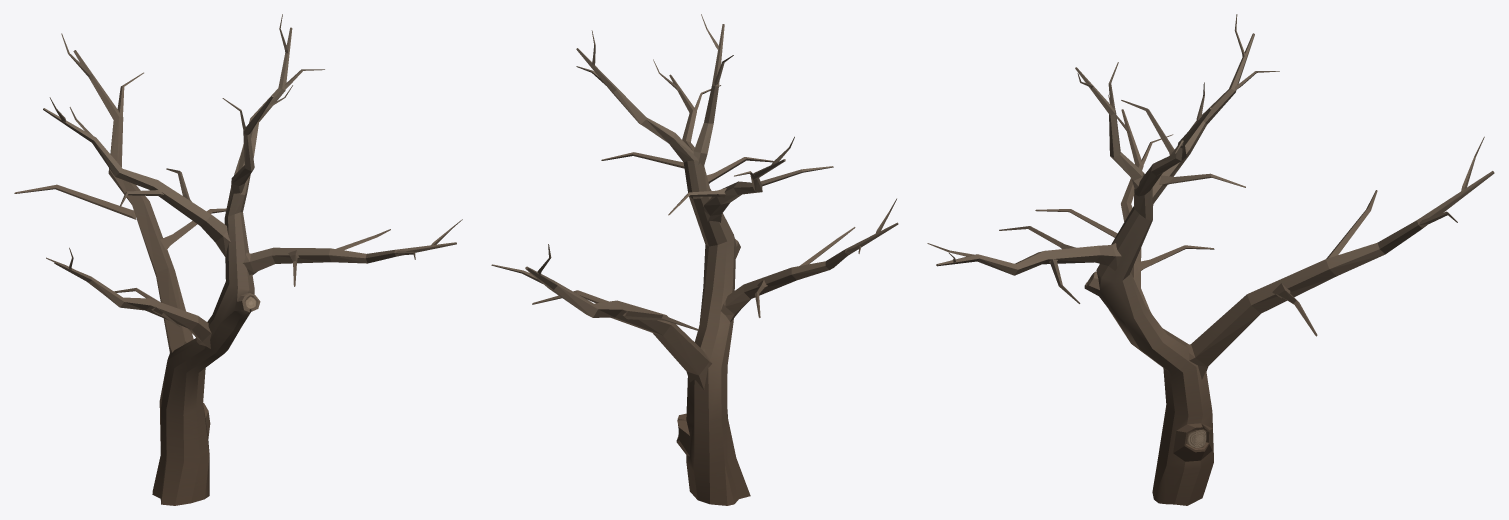
Rendered from PT_Fruit_Tree_01_dead_cut.fbx.
The picture shows the model from 3 angles, left to right: view 1: azimuth 30°, elevation 25°; view 2: azimuth 150°, elevation 25°; view 3: azimuth 270°, elevation 25°; orthographic projection. The views are drawn at different scales.
Parts seen in each view (by area): view 1: PT_Fruit_Tree_01_dead_cut; view 2: PT_Fruit_Tree_01_dead_cut; view 3: PT_Fruit_Tree_01_dead_cut.
Boxes of the visible parts, x1=… form: PT_Fruit_Tree_01_dead_cut: x1=14, y1=14, x2=462, y2=505; PT_Fruit_Tree_01_dead_cut: x1=491, y1=14, x2=898, y2=505; PT_Fruit_Tree_01_dead_cut: x1=927, y1=14, x2=1494, y2=505.
Bounding box in the file's own units: 356 × 462 × 505.
